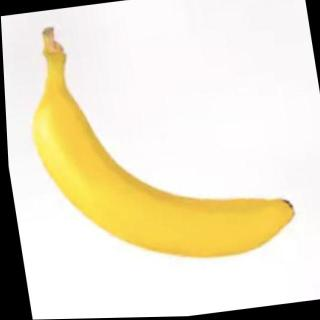banana: (19, 56, 300, 282)
